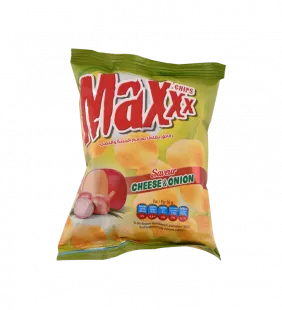MAXXX: (52, 44, 236, 268)
